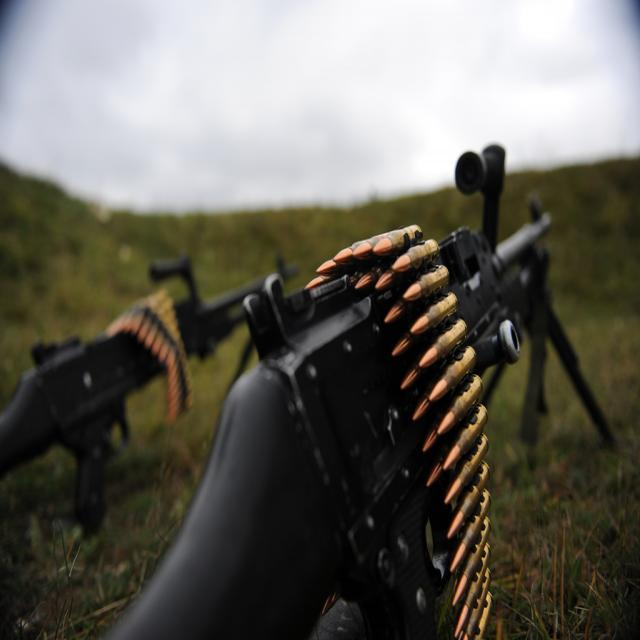weapon: (96, 140, 614, 640), (0, 251, 299, 539)
